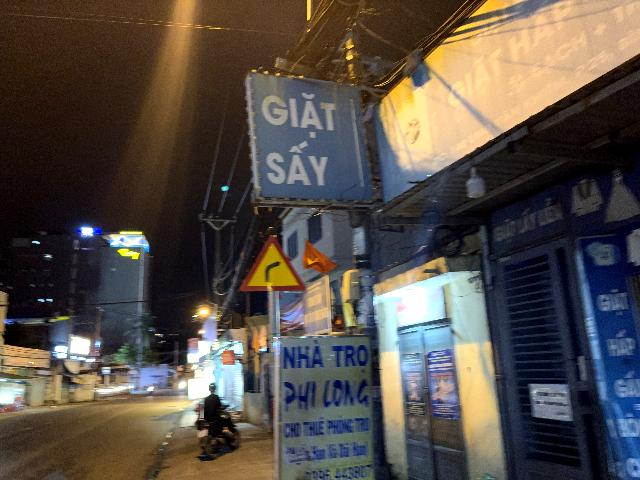cho-ngoat-nguy-hiem-ben-phai: (240, 234, 307, 292)
